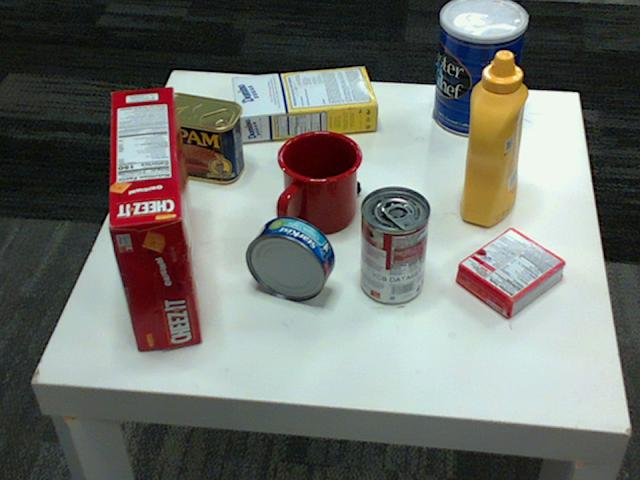cracker_box: (107, 85, 203, 348)
gelatin_box: (456, 228, 566, 318)
large_marker: (276, 146, 359, 195)
master_chef_can: (432, 0, 526, 136)
mug: (277, 128, 363, 231)
mustard_bottle: (459, 51, 529, 225)
potted_meat_can: (149, 93, 244, 183)
sugar_box: (232, 66, 378, 140)
tomato_soup_can: (361, 186, 430, 304)
tuna_fish_can: (247, 216, 336, 300)
